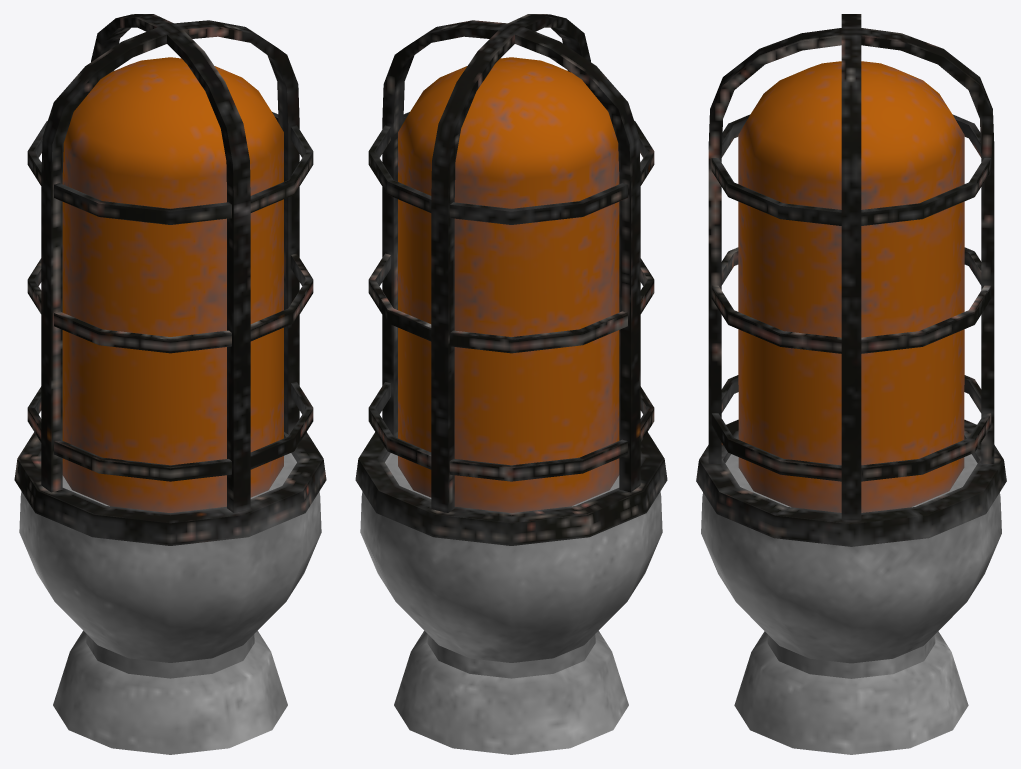
Rendered from EmergencyLight_01a_snaps011.fbx.
3 views of the same model, side by side, from view 1: azimuth 30°, elevation 25°; view 2: azimuth 150°, elevation 25°; view 3: azimuth 270°, elevation 25° (orthographic).
Parts seen in each view (by area): view 1: EmergencyLight_01a_snaps011_LOD0; view 2: EmergencyLight_01a_snaps011_LOD0; view 3: EmergencyLight_01a_snaps011_LOD0.
Part boxes in pixels (x1=…): EmergencyLight_01a_snaps011_LOD0: x1=14, y1=14, x2=326, y2=754; EmergencyLight_01a_snaps011_LOD0: x1=355, y1=14, x2=667, y2=754; EmergencyLight_01a_snaps011_LOD0: x1=696, y1=14, x2=1006, y2=754.
Size of what is drawn, in the model's own units: 11.72 by 28.03 by 11.72.
